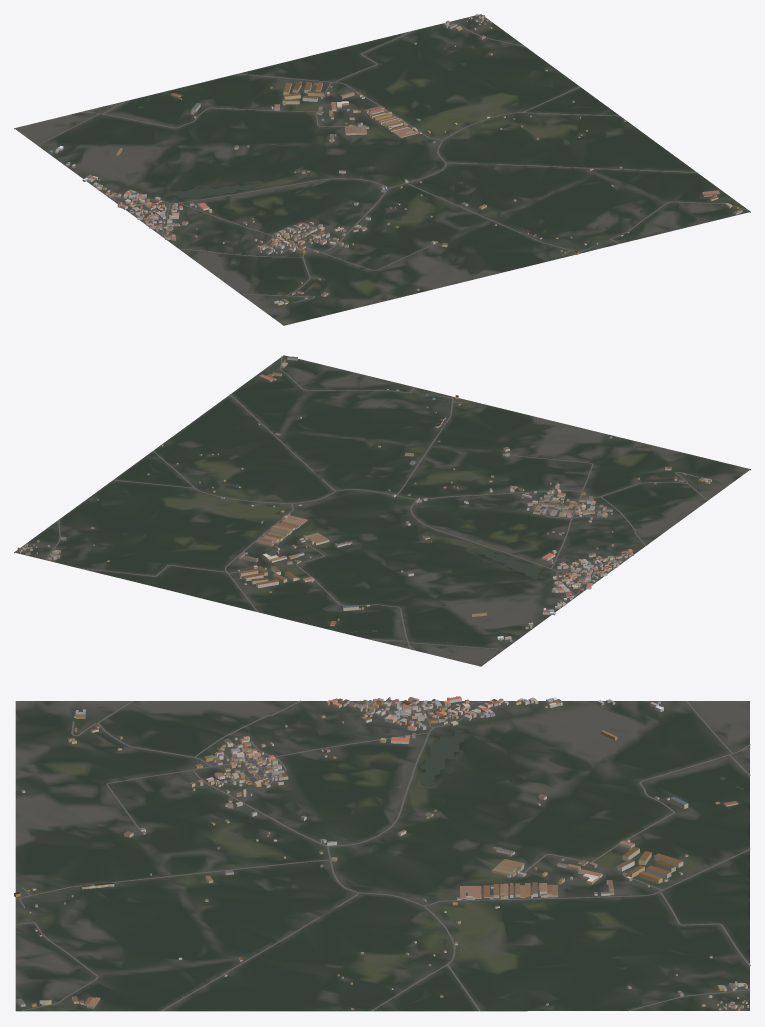
The picture shows the model from 3 angles, top to bottom: view 1: azimuth 30°, elevation 25°; view 2: azimuth 150°, elevation 25°; view 3: azimuth 270°, elevation 25°; orthographic projection. The views are drawn at different scales.
Parts seen in each view (by area): view 1: ground, buildings, roads, water; view 2: ground, buildings, roads, water; view 3: ground, buildings, roads, water.
Part boxes in pixels (left/top/right/bottom): ground: left=14, top=14, right=750, bottom=325; buildings: left=49, top=14, right=742, bottom=305; roads: left=37, top=22, right=749, bottom=302; water: left=138, top=71, right=287, bottom=198; ground: left=14, top=355, right=750, bottom=666; buildings: left=17, top=356, right=711, bottom=641; roads: left=45, top=356, right=708, bottom=650; water: left=227, top=548, right=544, bottom=632; ground: left=15, top=701, right=749, bottom=1011; buildings: left=14, top=696, right=749, bottom=1010; roads: left=15, top=700, right=750, bottom=1011; water: left=420, top=730, right=743, bottom=875.
Bounding box in the file's own units: 1411 × 13.11 × 1406.
